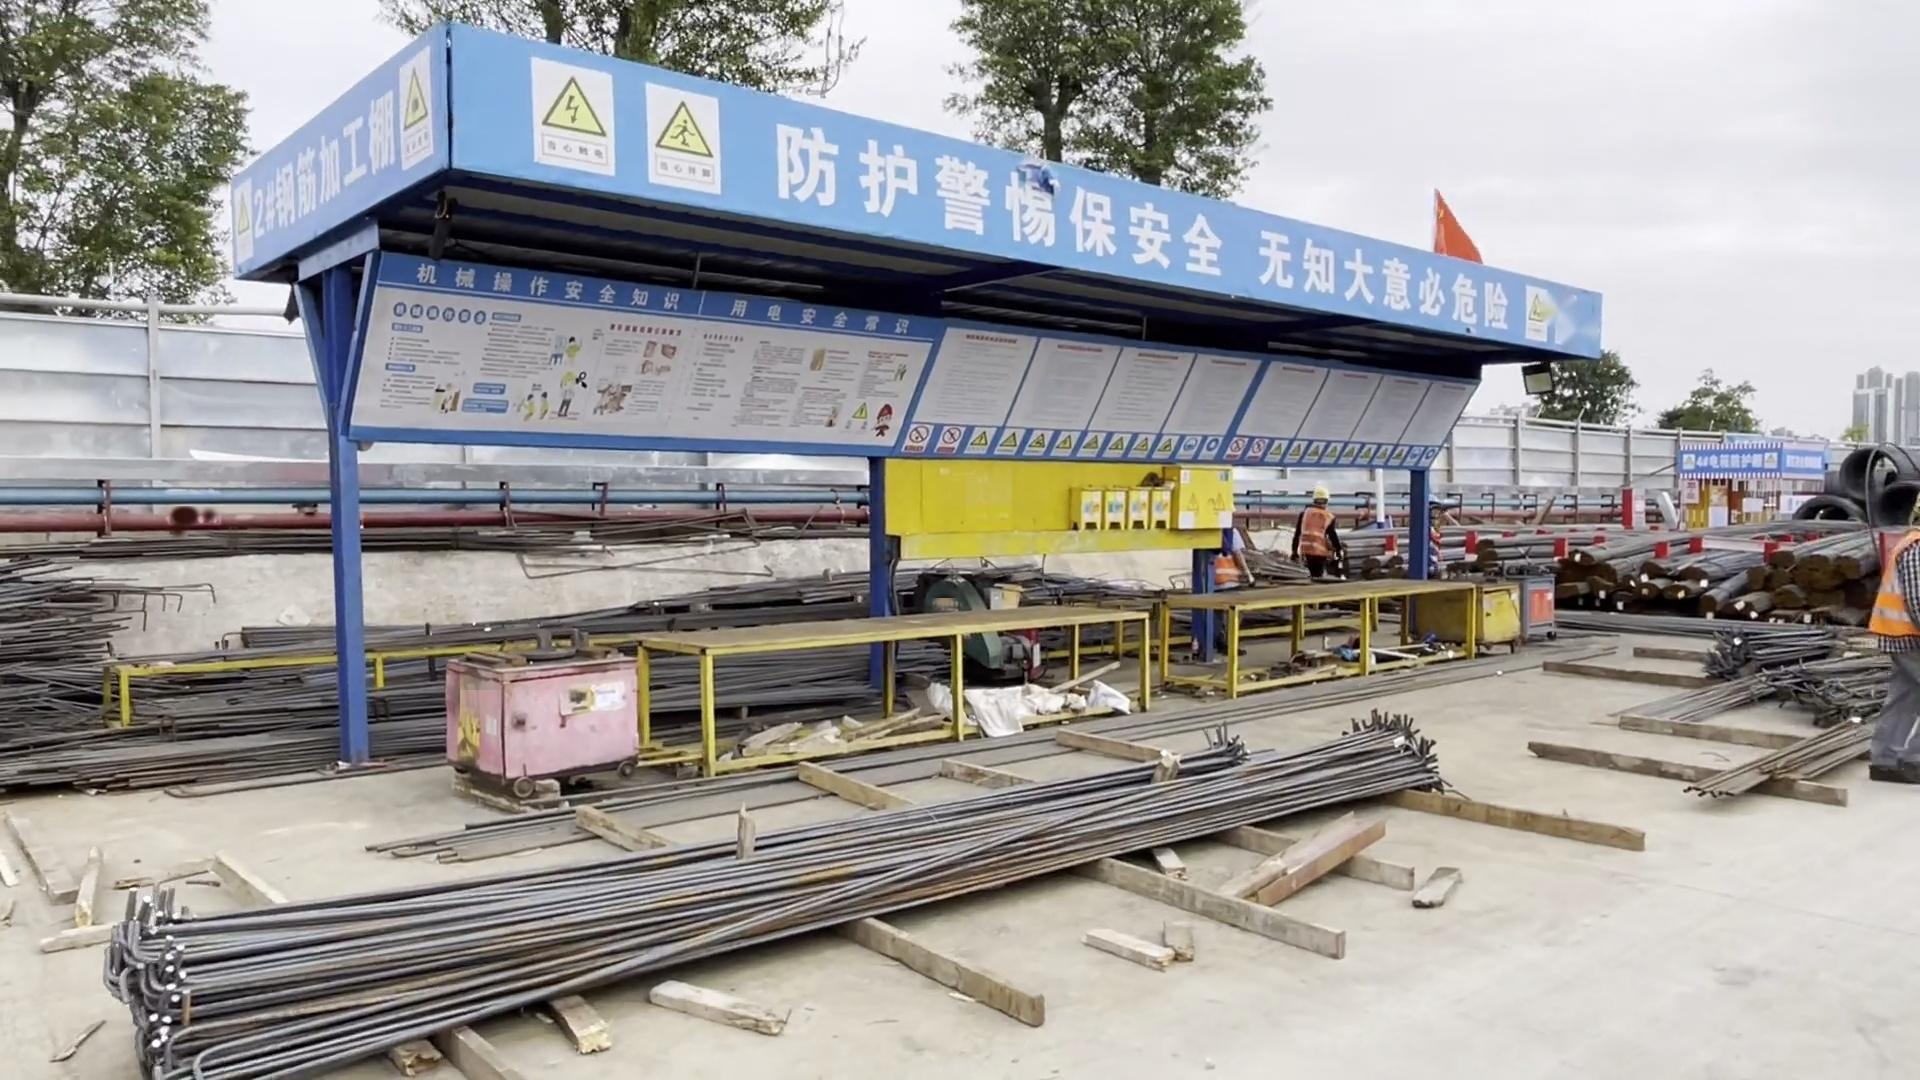ebox: (1070, 465, 1237, 528)
fence: (1, 310, 388, 507)
helmet: (1310, 486, 1331, 497), (1425, 492, 1442, 502)
person: (1861, 494, 1920, 775), (1287, 483, 1353, 582), (1212, 532, 1253, 667), (1419, 491, 1457, 587)
rebar: (106, 705, 1463, 1080), (1, 550, 439, 760), (1708, 617, 1874, 735), (667, 569, 902, 633)
slogan: (563, 91, 1591, 344), (213, 113, 459, 215), (1686, 451, 1793, 484)
vest: (1877, 530, 1920, 654), (1210, 530, 1245, 594), (1302, 510, 1339, 565), (1423, 515, 1446, 566)
